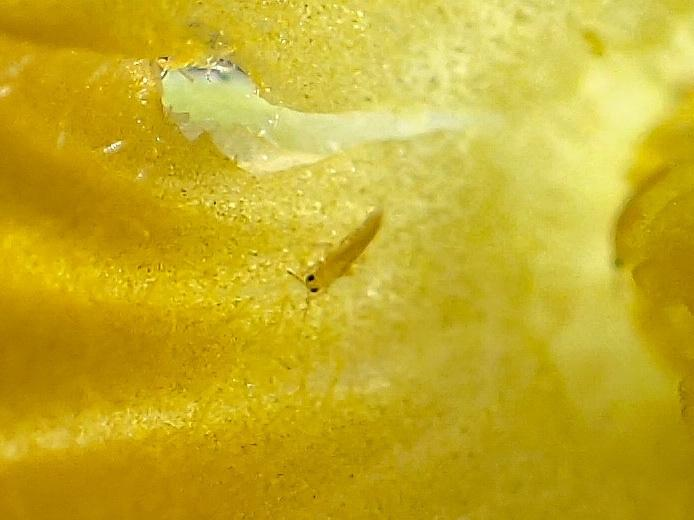tiny_pests: (264, 180, 407, 346)
